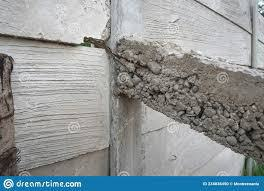Exposed reinforcement: (103, 46, 148, 69), (103, 46, 128, 69)
Spalling: (115, 36, 264, 164)
